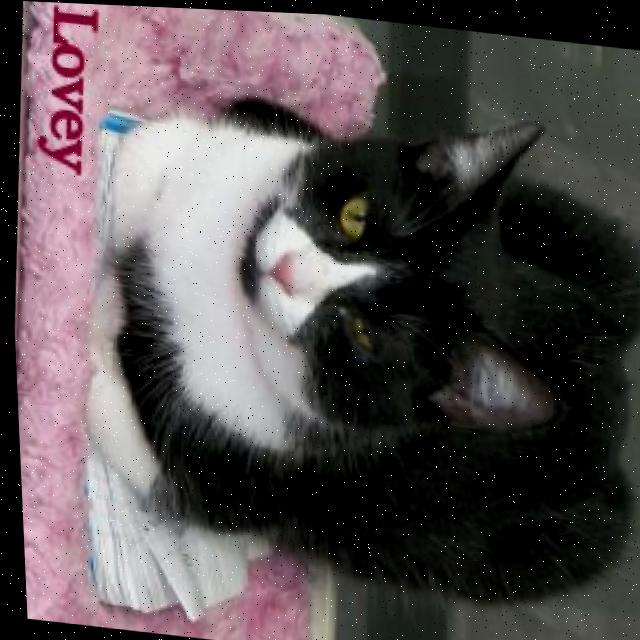Tuxedo: (54, 68, 640, 620)
